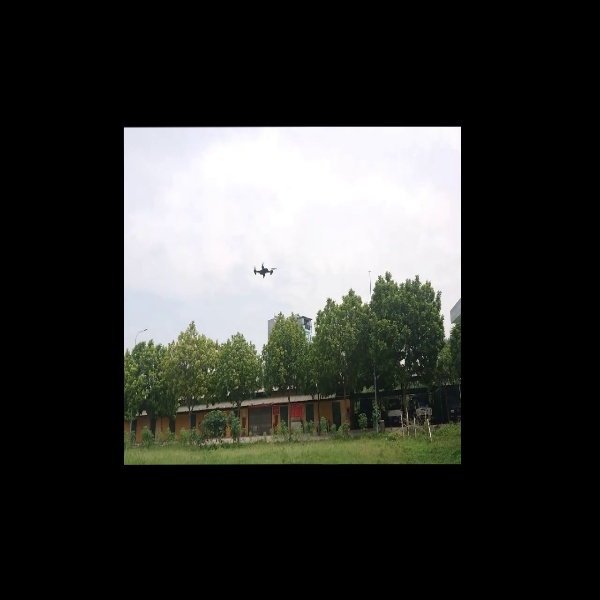drone: (248, 256, 282, 286)
